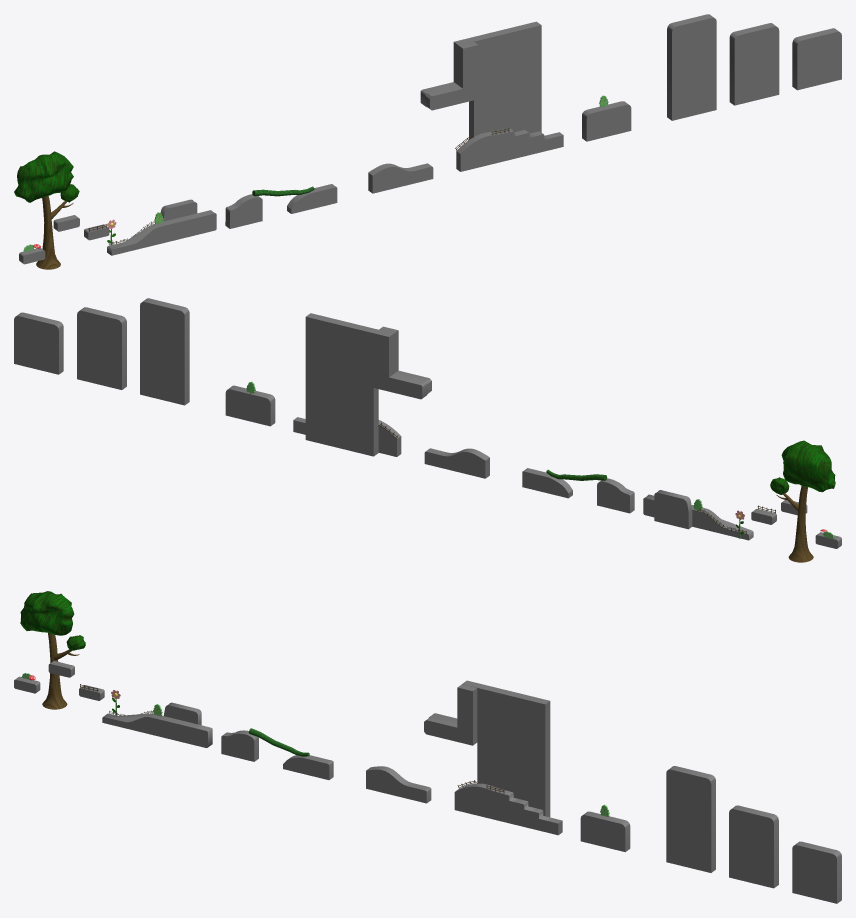
Rendered from Levelbuild5.fbx.
The picture shows the model from 3 angles, top to bottom: view 1: azimuth 30°, elevation 25°; view 2: azimuth 150°, elevation 25°; view 3: azimuth 330°, elevation 25°; orthographic projection.
Parts seen in each view (by area): view 1: Level_build7beta_pCube4, pasted__pasted__pCube3, pasted__pasted__pCube3_ncl2_, Bigtree1_polySurface4, Level_build7beta_pCube2, pasted__pCube3, polySurface9, Level_build7beta_pCube3, Level_build7beta_pCube1, pCube3, pCube4; view 2: Level_build7beta_pCube4, pasted__pasted__pCube3, pasted__pasted__pCube3_ncl2_, Bigtree1_polySurface4, pasted__pCube3, polySurface9, Level_build7beta_pCube3, Level_build7beta_pCube1, pCube3, pCube4, Level_build7beta_pCube2; view 3: Level_build7beta_pCube4, pasted__pasted__pCube3, pasted__pasted__pCube3_ncl2_, Bigtree1_polySurface4, Level_build7beta_pCube2, pasted__pCube3, polySurface9, Level_build7beta_pCube3, Level_build7beta_pCube1, pCube3, pCube4.
Boxes of the visible parts, x1=… form: Level_build7beta_pCube4: x1=420, y1=21, x2=541, y2=139; pasted__pasted__pCube3: x1=667, y1=14, x2=716, y2=120; pasted__pasted__pCube3_ncl2_: x1=729, y1=23, x2=779, y2=105; Bigtree1_polySurface4: x1=14, y1=151, x2=79, y2=269; Level_build7beta_pCube2: x1=456, y1=128, x2=563, y2=171; pasted__pCube3: x1=792, y1=28, x2=841, y2=90; polySurface9: x1=107, y1=199, x2=216, y2=255; Level_build7beta_pCube3: x1=582, y1=101, x2=631, y2=141; Level_build7beta_pCube1: x1=368, y1=163, x2=433, y2=193; pCube3: x1=225, y1=194, x2=262, y2=228; pCube4: x1=287, y1=184, x2=337, y2=213; Level_build7beta_pCube4: x1=305, y1=313, x2=431, y2=456; pasted__pasted__pCube3: x1=140, y1=298, x2=189, y2=405; pasted__pasted__pCube3_ncl2_: x1=77, y1=307, x2=126, y2=389; Bigtree1_polySurface4: x1=770, y1=440, x2=835, y2=562; pasted__pCube3: x1=14, y1=312, x2=63, y2=374; polySurface9: x1=643, y1=490, x2=753, y2=540; Level_build7beta_pCube3: x1=225, y1=385, x2=275, y2=426; Level_build7beta_pCube1: x1=424, y1=448, x2=489, y2=478; pCube3: x1=597, y1=478, x2=634, y2=513; pCube4: x1=522, y1=468, x2=572, y2=498; Level_build7beta_pCube2: x1=293, y1=417, x2=401, y2=456; Level_build7beta_pCube4: x1=424, y1=680, x2=550, y2=817; pasted__pasted__pCube3: x1=666, y1=766, x2=715, y2=872; pasted__pasted__pCube3_ncl2_: x1=729, y1=805, x2=778, y2=888; Bigtree1_polySurface4: x1=20, y1=591, x2=85, y2=709; Level_build7beta_pCube2: x1=454, y1=783, x2=562, y2=835; pasted__pCube3: x1=792, y1=841, x2=841, y2=903; polySurface9: x1=102, y1=702, x2=212, y2=747; Level_build7beta_pCube3: x1=580, y1=811, x2=630, y2=852; Level_build7beta_pCube1: x1=366, y1=766, x2=431, y2=803; pCube3: x1=221, y1=730, x2=258, y2=761; pCube4: x1=283, y1=755, x2=333, y2=779.
Size of the model in its own units: 305 by 43.63 by 12.37.
